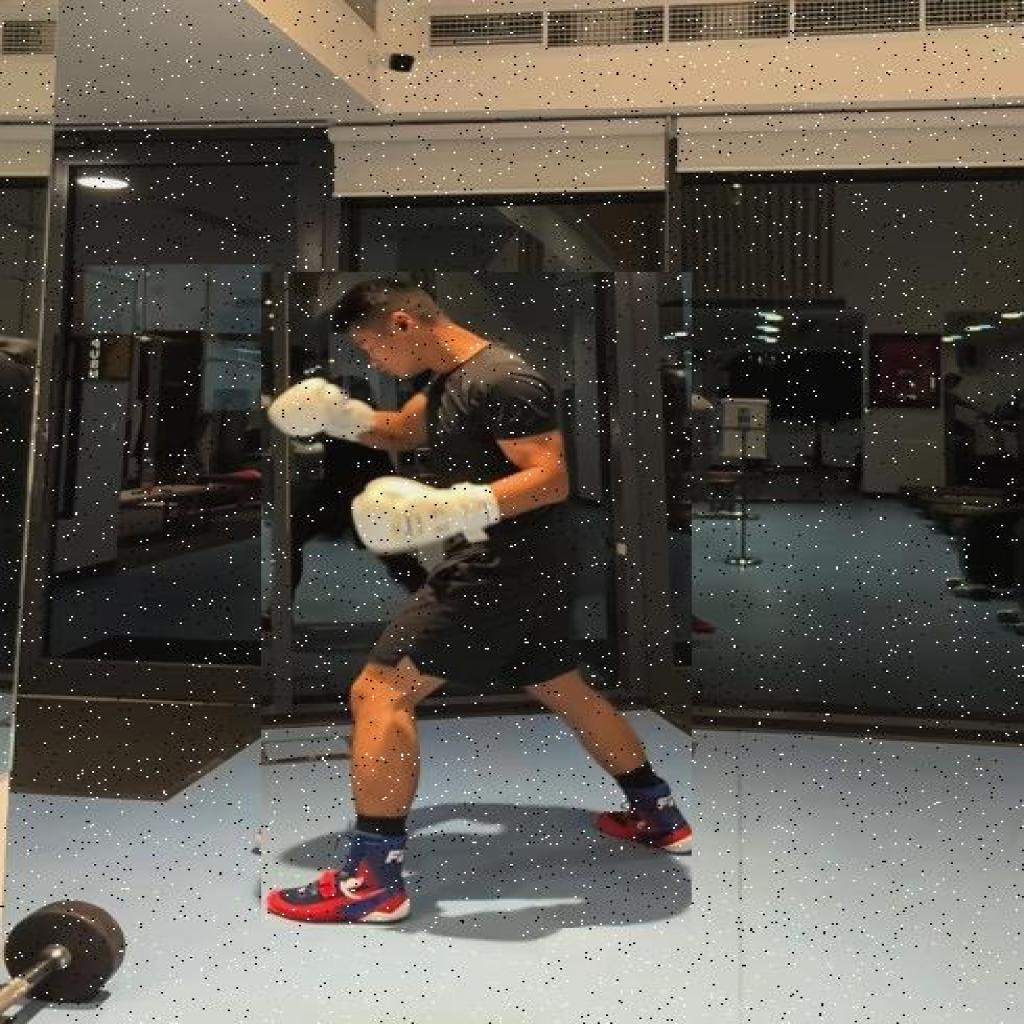cross: (261, 272, 692, 927)
